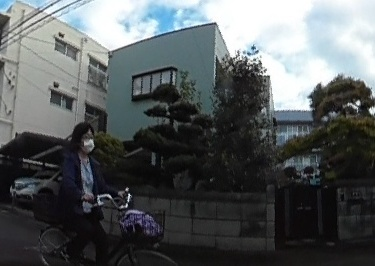person: (62, 121, 114, 266)
